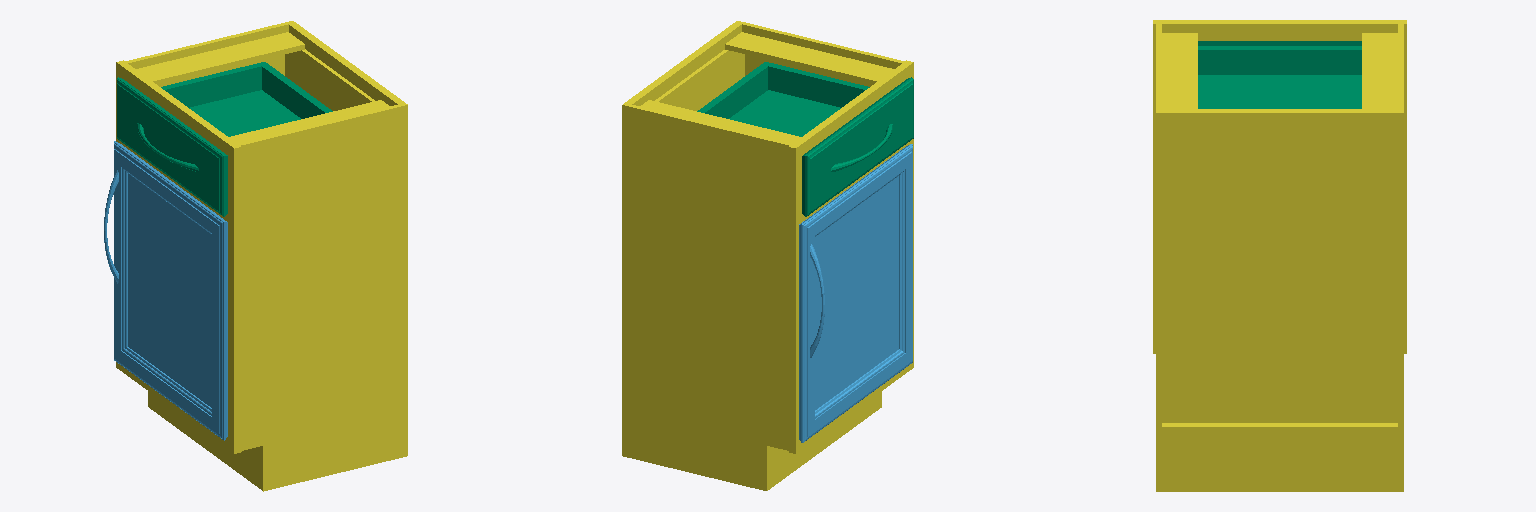
robot.urdf — partnet_721bd0402e92e339c59350d819542ec7:
<?xml version="1.0" ?>
<robot name="partnet_721bd0402e92e339c59350d819542ec7">
	<link name="base"/>
	<link name="link_0">
		<visual name="cabinet_door_surface-13">
			<origin xyz="-0.42473580643360603 0 -0.38930577674886935"/>
			<geometry>
				<mesh filename="textured_objs/original-54.obj"/>
			</geometry>
		</visual>
		<visual name="cabinet_door_surface-13">
			<origin xyz="-0.42473580643360603 0 -0.38930577674886935"/>
			<geometry>
				<mesh filename="textured_objs/original-52.obj"/>
			</geometry>
		</visual>
		<visual name="cabinet_door_surface-13">
			<origin xyz="-0.42473580643360603 0 -0.38930577674886935"/>
			<geometry>
				<mesh filename="textured_objs/original-47.obj"/>
			</geometry>
		</visual>
		<visual name="cabinet_door_surface-13">
			<origin xyz="-0.42473580643360603 0 -0.38930577674886935"/>
			<geometry>
				<mesh filename="textured_objs/original-56.obj"/>
			</geometry>
		</visual>
		<visual name="cabinet_door_surface-13">
			<origin xyz="-0.42473580643360603 0 -0.38930577674886935"/>
			<geometry>
				<mesh filename="textured_objs/original-51.obj"/>
			</geometry>
		</visual>
		<visual name="cabinet_door_surface-13">
			<origin xyz="-0.42473580643360603 0 -0.38930577674886935"/>
			<geometry>
				<mesh filename="textured_objs/original-49.obj"/>
			</geometry>
		</visual>
		<visual name="cabinet_door_surface-13">
			<origin xyz="-0.42473580643360603 0 -0.38930577674886935"/>
			<geometry>
				<mesh filename="textured_objs/original-50.obj"/>
			</geometry>
		</visual>
		<visual name="cabinet_door_surface-13">
			<origin xyz="-0.42473580643360603 0 -0.38930577674886935"/>
			<geometry>
				<mesh filename="textured_objs/original-57.obj"/>
			</geometry>
		</visual>
		<visual name="cabinet_door_surface-13">
			<origin xyz="-0.42473580643360603 0 -0.38930577674886935"/>
			<geometry>
				<mesh filename="textured_objs/original-48.obj"/>
			</geometry>
		</visual>
		<visual name="cabinet_door_surface-13">
			<origin xyz="-0.42473580643360603 0 -0.38930577674886935"/>
			<geometry>
				<mesh filename="textured_objs/original-55.obj"/>
			</geometry>
		</visual>
		<visual name="handle-14">
			<origin xyz="-0.42473580643360603 0 -0.38930577674886935"/>
			<geometry>
				<mesh filename="textured_objs/original-58.obj"/>
			</geometry>
		</visual>
		<collision>
			<origin xyz="-0.42473580643360603 0 -0.38930577674886935"/>
			<geometry>
				<mesh filename="textured_objs/original-54.obj"/>
			</geometry>
		</collision>
		<collision>
			<origin xyz="-0.42473580643360603 0 -0.38930577674886935"/>
			<geometry>
				<mesh filename="textured_objs/original-52.obj"/>
			</geometry>
		</collision>
		<collision>
			<origin xyz="-0.42473580643360603 0 -0.38930577674886935"/>
			<geometry>
				<mesh filename="textured_objs/original-47.obj"/>
			</geometry>
		</collision>
		<collision>
			<origin xyz="-0.42473580643360603 0 -0.38930577674886935"/>
			<geometry>
				<mesh filename="textured_objs/original-56.obj"/>
			</geometry>
		</collision>
		<collision>
			<origin xyz="-0.42473580643360603 0 -0.38930577674886935"/>
			<geometry>
				<mesh filename="textured_objs/original-51.obj"/>
			</geometry>
		</collision>
		<collision>
			<origin xyz="-0.42473580643360603 0 -0.38930577674886935"/>
			<geometry>
				<mesh filename="textured_objs/original-49.obj"/>
			</geometry>
		</collision>
		<collision>
			<origin xyz="-0.42473580643360603 0 -0.38930577674886935"/>
			<geometry>
				<mesh filename="textured_objs/original-50.obj"/>
			</geometry>
		</collision>
		<collision>
			<origin xyz="-0.42473580643360603 0 -0.38930577674886935"/>
			<geometry>
				<mesh filename="textured_objs/original-57.obj"/>
			</geometry>
		</collision>
		<collision>
			<origin xyz="-0.42473580643360603 0 -0.38930577674886935"/>
			<geometry>
				<mesh filename="textured_objs/original-48.obj"/>
			</geometry>
		</collision>
		<collision>
			<origin xyz="-0.42473580643360603 0 -0.38930577674886935"/>
			<geometry>
				<mesh filename="textured_objs/original-55.obj"/>
			</geometry>
		</collision>
		<collision>
			<origin xyz="-0.42473580643360603 0 -0.38930577674886935"/>
			<geometry>
				<mesh filename="textured_objs/original-58.obj"/>
			</geometry>
		</collision>
	</link>
	<joint name="joint_0" type="revolute">
		<origin xyz="0.42473580643360603 0 0.38930577674886935"/>
		<axis xyz="0 1 0"/>
		<child link="link_0"/>
		<parent link="link_2"/>
		<limit lower="0.0" upper="1.5707963267948966"/>
	</joint>
	<link name="link_1">
		<visual name="drawer_front-8">
			<origin xyz="0 0 0"/>
			<geometry>
				<mesh filename="textured_objs/original-40.obj"/>
			</geometry>
		</visual>
		<visual name="drawer_front-8">
			<origin xyz="0 0 0"/>
			<geometry>
				<mesh filename="textured_objs/original-41.obj"/>
			</geometry>
		</visual>
		<visual name="drawer_front-8">
			<origin xyz="0 0 0"/>
			<geometry>
				<mesh filename="textured_objs/original-43.obj"/>
			</geometry>
		</visual>
		<visual name="drawer_front-8">
			<origin xyz="0 0 0"/>
			<geometry>
				<mesh filename="textured_objs/original-34.obj"/>
			</geometry>
		</visual>
		<visual name="drawer_front-8">
			<origin xyz="0 0 0"/>
			<geometry>
				<mesh filename="textured_objs/original-42.obj"/>
			</geometry>
		</visual>
		<visual name="drawer_front-8">
			<origin xyz="0 0 0"/>
			<geometry>
				<mesh filename="textured_objs/original-35.obj"/>
			</geometry>
		</visual>
		<visual name="drawer_front-8">
			<origin xyz="0 0 0"/>
			<geometry>
				<mesh filename="textured_objs/original-37.obj"/>
			</geometry>
		</visual>
		<visual name="drawer_front-8">
			<origin xyz="0 0 0"/>
			<geometry>
				<mesh filename="textured_objs/original-44.obj"/>
			</geometry>
		</visual>
		<visual name="drawer_front-8">
			<origin xyz="0 0 0"/>
			<geometry>
				<mesh filename="textured_objs/original-36.obj"/>
			</geometry>
		</visual>
		<visual name="drawer_front-8">
			<origin xyz="0 0 0"/>
			<geometry>
				<mesh filename="textured_objs/original-26.obj"/>
			</geometry>
		</visual>
		<visual name="drawer_front-8">
			<origin xyz="0 0 0"/>
			<geometry>
				<mesh filename="textured_objs/original-39.obj"/>
			</geometry>
		</visual>
		<visual name="drawer_side-9">
			<origin xyz="0 0 0"/>
			<geometry>
				<mesh filename="textured_objs/original-25.obj"/>
			</geometry>
		</visual>
		<visual name="drawer_side-10">
			<origin xyz="0 0 0"/>
			<geometry>
				<mesh filename="textured_objs/original-30.obj"/>
			</geometry>
		</visual>
		<visual name="drawer_side-10">
			<origin xyz="0 0 0"/>
			<geometry>
				<mesh filename="textured_objs/original-32.obj"/>
			</geometry>
		</visual>
		<visual name="drawer_back-11">
			<origin xyz="0 0 0"/>
			<geometry>
				<mesh filename="textured_objs/original-31.obj"/>
			</geometry>
		</visual>
		<visual name="drawer_bottom-12">
			<origin xyz="0 0 0"/>
			<geometry>
				<mesh filename="textured_objs/original-29.obj"/>
			</geometry>
		</visual>
		<visual name="drawer_bottom-12">
			<origin xyz="0 0 0"/>
			<geometry>
				<mesh filename="textured_objs/original-28.obj"/>
			</geometry>
		</visual>
		<visual name="handle-7">
			<origin xyz="0 0 0"/>
			<geometry>
				<mesh filename="textured_objs/original-45.obj"/>
			</geometry>
		</visual>
		<collision>
			<origin xyz="0 0 0"/>
			<geometry>
				<mesh filename="textured_objs/original-40.obj"/>
			</geometry>
		</collision>
		<collision>
			<origin xyz="0 0 0"/>
			<geometry>
				<mesh filename="textured_objs/original-41.obj"/>
			</geometry>
		</collision>
		<collision>
			<origin xyz="0 0 0"/>
			<geometry>
				<mesh filename="textured_objs/original-43.obj"/>
			</geometry>
		</collision>
		<collision>
			<origin xyz="0 0 0"/>
			<geometry>
				<mesh filename="textured_objs/original-34.obj"/>
			</geometry>
		</collision>
		<collision>
			<origin xyz="0 0 0"/>
			<geometry>
				<mesh filename="textured_objs/original-42.obj"/>
			</geometry>
		</collision>
		<collision>
			<origin xyz="0 0 0"/>
			<geometry>
				<mesh filename="textured_objs/original-35.obj"/>
			</geometry>
		</collision>
		<collision>
			<origin xyz="0 0 0"/>
			<geometry>
				<mesh filename="textured_objs/original-37.obj"/>
			</geometry>
		</collision>
		<collision>
			<origin xyz="0 0 0"/>
			<geometry>
				<mesh filename="textured_objs/original-44.obj"/>
			</geometry>
		</collision>
		<collision>
			<origin xyz="0 0 0"/>
			<geometry>
				<mesh filename="textured_objs/original-36.obj"/>
			</geometry>
		</collision>
		<collision>
			<origin xyz="0 0 0"/>
			<geometry>
				<mesh filename="textured_objs/original-26.obj"/>
			</geometry>
		</collision>
		<collision>
			<origin xyz="0 0 0"/>
			<geometry>
				<mesh filename="textured_objs/original-39.obj"/>
			</geometry>
		</collision>
		<collision>
			<origin xyz="0 0 0"/>
			<geometry>
				<mesh filename="textured_objs/original-25.obj"/>
			</geometry>
		</collision>
		<collision>
			<origin xyz="0 0 0"/>
			<geometry>
				<mesh filename="textured_objs/original-30.obj"/>
			</geometry>
		</collision>
		<collision>
			<origin xyz="0 0 0"/>
			<geometry>
				<mesh filename="textured_objs/original-32.obj"/>
			</geometry>
		</collision>
		<collision>
			<origin xyz="0 0 0"/>
			<geometry>
				<mesh filename="textured_objs/original-31.obj"/>
			</geometry>
		</collision>
		<collision>
			<origin xyz="0 0 0"/>
			<geometry>
				<mesh filename="textured_objs/original-29.obj"/>
			</geometry>
		</collision>
		<collision>
			<origin xyz="0 0 0"/>
			<geometry>
				<mesh filename="textured_objs/original-28.obj"/>
			</geometry>
		</collision>
		<collision>
			<origin xyz="0 0 0"/>
			<geometry>
				<mesh filename="textured_objs/original-45.obj"/>
			</geometry>
		</collision>
	</link>
	<joint name="joint_1" type="prismatic">
		<origin xyz="0 0 0"/>
		<axis xyz="0 0 1"/>
		<child link="link_1"/>
		<parent link="link_2"/>
		<limit lower="0" upper="0.6080000000000001"/>
	</joint>
	<link name="link_2">
		<visual name="shelf-47">
			<origin xyz="0 0 0"/>
			<geometry>
				<mesh filename="textured_objs/original-2.obj"/>
			</geometry>
		</visual>
		<visual name="vertical_side_panel-34">
			<origin xyz="0 0 0"/>
			<geometry>
				<mesh filename="textured_objs/original-12.obj"/>
			</geometry>
		</visual>
		<visual name="vertical_side_panel-34">
			<origin xyz="0 0 0"/>
			<geometry>
				<mesh filename="textured_objs/original-11.obj"/>
			</geometry>
		</visual>
		<visual name="vertical_side_panel-35">
			<origin xyz="0 0 0"/>
			<geometry>
				<mesh filename="textured_objs/original-16.obj"/>
			</geometry>
		</visual>
		<visual name="vertical_side_panel-35">
			<origin xyz="0 0 0"/>
			<geometry>
				<mesh filename="textured_objs/original-15.obj"/>
			</geometry>
		</visual>
		<visual name="back_panel-36">
			<origin xyz="0 0 0"/>
			<geometry>
				<mesh filename="textured_objs/original-6.obj"/>
			</geometry>
		</visual>
		<visual name="bottom_panel-37">
			<origin xyz="0 0 0"/>
			<geometry>
				<mesh filename="textured_objs/original-3.obj"/>
			</geometry>
		</visual>
		<visual name="frame_vertical_bar-38">
			<origin xyz="0 0 0"/>
			<geometry>
				<mesh filename="textured_objs/original-4.obj"/>
			</geometry>
		</visual>
		<visual name="frame_vertical_bar-39">
			<origin xyz="0 0 0"/>
			<geometry>
				<mesh filename="textured_objs/original-8.obj"/>
			</geometry>
		</visual>
		<visual name="frame_horizontal_bar-40">
			<origin xyz="0 0 0"/>
			<geometry>
				<mesh filename="textured_objs/original-9.obj"/>
			</geometry>
		</visual>
		<visual name="frame_horizontal_bar-41">
			<origin xyz="0 0 0"/>
			<geometry>
				<mesh filename="textured_objs/original-7.obj"/>
			</geometry>
		</visual>
		<visual name="frame_horizontal_bar-42">
			<origin xyz="0 0 0"/>
			<geometry>
				<mesh filename="textured_objs/original-18.obj"/>
			</geometry>
		</visual>
		<visual name="frame_horizontal_bar-43">
			<origin xyz="0 0 0"/>
			<geometry>
				<mesh filename="textured_objs/original-22.obj"/>
			</geometry>
		</visual>
		<visual name="frame_horizontal_bar-44">
			<origin xyz="0 0 0"/>
			<geometry>
				<mesh filename="textured_objs/original-21.obj"/>
			</geometry>
		</visual>
		<visual name="frame_horizontal_bar-45">
			<origin xyz="0 0 0"/>
			<geometry>
				<mesh filename="textured_objs/original-5.obj"/>
			</geometry>
		</visual>
		<visual name="other_leaf-48">
			<origin xyz="0 0 0"/>
			<geometry>
				<mesh filename="textured_objs/original-59.obj"/>
			</geometry>
		</visual>
		<visual name="base_side_panel-16">
			<origin xyz="0 0 0"/>
			<geometry>
				<mesh filename="textured_objs/original-17.obj"/>
			</geometry>
		</visual>
		<visual name="base_side_panel-17">
			<origin xyz="0 0 0"/>
			<geometry>
				<mesh filename="textured_objs/original-19.obj"/>
			</geometry>
		</visual>
		<visual name="base_side_panel-18">
			<origin xyz="0 0 0"/>
			<geometry>
				<mesh filename="textured_objs/original-13.obj"/>
			</geometry>
		</visual>
		<visual name="base_side_panel-19">
			<origin xyz="0 0 0"/>
			<geometry>
				<mesh filename="textured_objs/original-20.obj"/>
			</geometry>
		</visual>
		<collision>
			<origin xyz="0 0 0"/>
			<geometry>
				<mesh filename="textured_objs/original-2.obj"/>
			</geometry>
		</collision>
		<collision>
			<origin xyz="0 0 0"/>
			<geometry>
				<mesh filename="textured_objs/original-12.obj"/>
			</geometry>
		</collision>
		<collision>
			<origin xyz="0 0 0"/>
			<geometry>
				<mesh filename="textured_objs/original-11.obj"/>
			</geometry>
		</collision>
		<collision>
			<origin xyz="0 0 0"/>
			<geometry>
				<mesh filename="textured_objs/original-16.obj"/>
			</geometry>
		</collision>
		<collision>
			<origin xyz="0 0 0"/>
			<geometry>
				<mesh filename="textured_objs/original-15.obj"/>
			</geometry>
		</collision>
		<collision>
			<origin xyz="0 0 0"/>
			<geometry>
				<mesh filename="textured_objs/original-6.obj"/>
			</geometry>
		</collision>
		<collision>
			<origin xyz="0 0 0"/>
			<geometry>
				<mesh filename="textured_objs/original-3.obj"/>
			</geometry>
		</collision>
		<collision>
			<origin xyz="0 0 0"/>
			<geometry>
				<mesh filename="textured_objs/original-4.obj"/>
			</geometry>
		</collision>
		<collision>
			<origin xyz="0 0 0"/>
			<geometry>
				<mesh filename="textured_objs/original-8.obj"/>
			</geometry>
		</collision>
		<collision>
			<origin xyz="0 0 0"/>
			<geometry>
				<mesh filename="textured_objs/original-9.obj"/>
			</geometry>
		</collision>
		<collision>
			<origin xyz="0 0 0"/>
			<geometry>
				<mesh filename="textured_objs/original-7.obj"/>
			</geometry>
		</collision>
		<collision>
			<origin xyz="0 0 0"/>
			<geometry>
				<mesh filename="textured_objs/original-18.obj"/>
			</geometry>
		</collision>
		<collision>
			<origin xyz="0 0 0"/>
			<geometry>
				<mesh filename="textured_objs/original-22.obj"/>
			</geometry>
		</collision>
		<collision>
			<origin xyz="0 0 0"/>
			<geometry>
				<mesh filename="textured_objs/original-21.obj"/>
			</geometry>
		</collision>
		<collision>
			<origin xyz="0 0 0"/>
			<geometry>
				<mesh filename="textured_objs/original-5.obj"/>
			</geometry>
		</collision>
		<collision>
			<origin xyz="0 0 0"/>
			<geometry>
				<mesh filename="textured_objs/original-59.obj"/>
			</geometry>
		</collision>
		<collision>
			<origin xyz="0 0 0"/>
			<geometry>
				<mesh filename="textured_objs/original-17.obj"/>
			</geometry>
		</collision>
		<collision>
			<origin xyz="0 0 0"/>
			<geometry>
				<mesh filename="textured_objs/original-19.obj"/>
			</geometry>
		</collision>
		<collision>
			<origin xyz="0 0 0"/>
			<geometry>
				<mesh filename="textured_objs/original-13.obj"/>
			</geometry>
		</collision>
		<collision>
			<origin xyz="0 0 0"/>
			<geometry>
				<mesh filename="textured_objs/original-20.obj"/>
			</geometry>
		</collision>
	</link>
	<joint name="joint_2" type="fixed">
		<origin rpy="1.570796326794897 0 -1.570796326794897" xyz="0 0 0"/>
		<child link="link_2"/>
		<parent link="base"/>
	</joint>
</robot>

--- Facts derived from the render (not from the file) ---
3 views of the same robot in one strip: view 1: azimuth 30°, elevation 25°; view 2: azimuth 150°, elevation 25°; view 3: azimuth 270°, elevation 25° (orthographic).
Model partnet_721bd0402e92e339c59350d819542ec7 with 4 links and 3 joints (1 revolute, 1 prismatic, 1 fixed), rooted at base, posed every joint at zero.
Visible links, largest first — view 1: link_2, link_0, link_1; view 2: link_2, link_0, link_1; view 3: link_2, link_1.
Link boxes in pixels (<box>): link_2: <box>116,21,407,491</box>; link_0: <box>104,141,227,440</box>; link_1: <box>117,62,332,216</box>; link_2: <box>622,21,913,490</box>; link_0: <box>799,144,912,442</box>; link_1: <box>697,62,913,216</box>; link_2: <box>1153,20,1406,491</box>; link_1: <box>1198,41,1361,108</box>.
Bounding box of the posed robot: 0.9221 × 0.9622 × 1.58 m (x, y, z).
Meshes: 49 distinct files referenced, 49 mesh visuals loaded (49 OBJ).